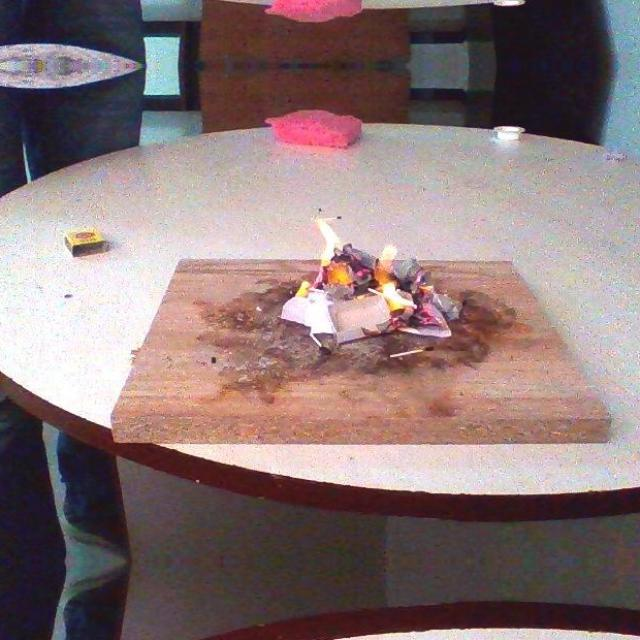smoke: (292, 220, 344, 300), (373, 242, 418, 307)
